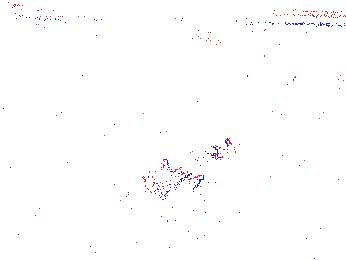flame jellyfish: (132, 156, 206, 241), (193, 138, 256, 229)
